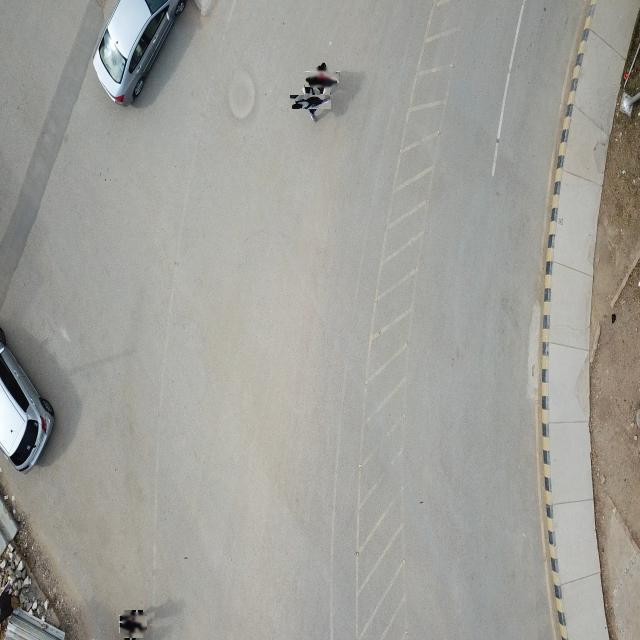Manusia: (296, 88, 326, 116), (310, 67, 337, 93), (122, 612, 146, 637)
